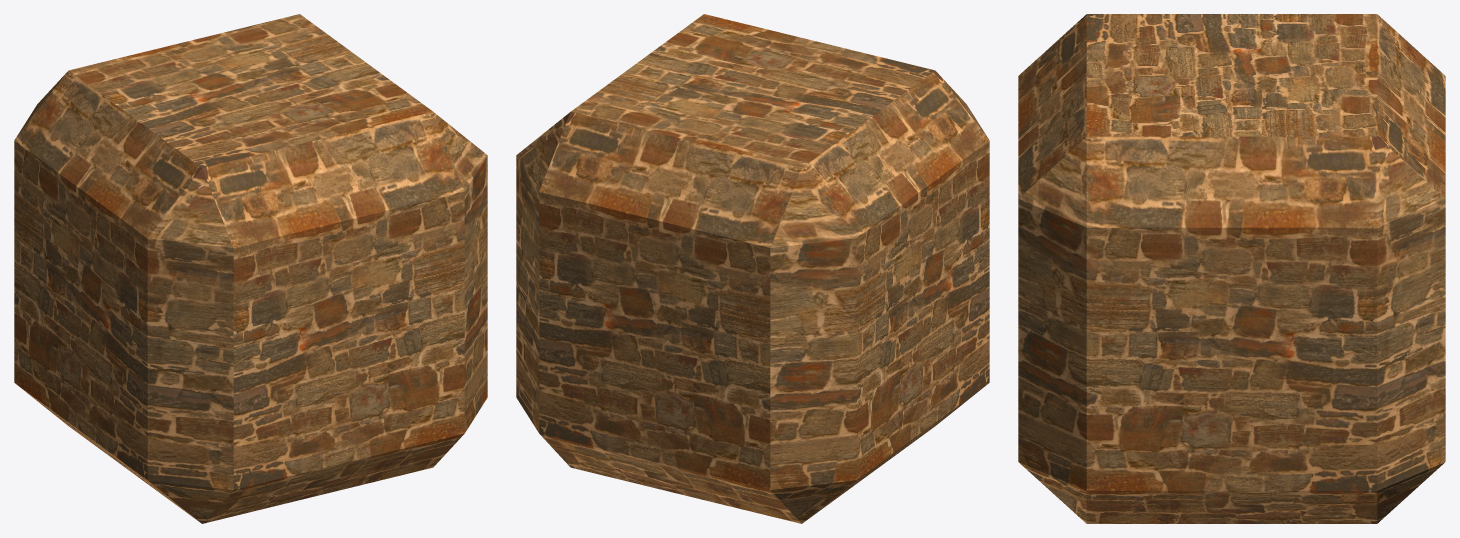
The model's file is block_hard.glb.
3 renders of one model, left to right at view 1: azimuth 30°, elevation 25°; view 2: azimuth 150°, elevation 25°; view 3: azimuth 270°, elevation 25°, orthographic. The views are drawn at different scales.
Parts seen in each view (by area): view 1: hard; view 2: hard; view 3: hard.
Boxes of the visible parts, x1,y1,x2,y2 form: hard: (14,14,487,523); hard: (516,14,989,523); hard: (1018,14,1445,523).
Bounding box in the file's own units: 1 × 1 × 1.
Materials: 1 (1 with a texture image).
